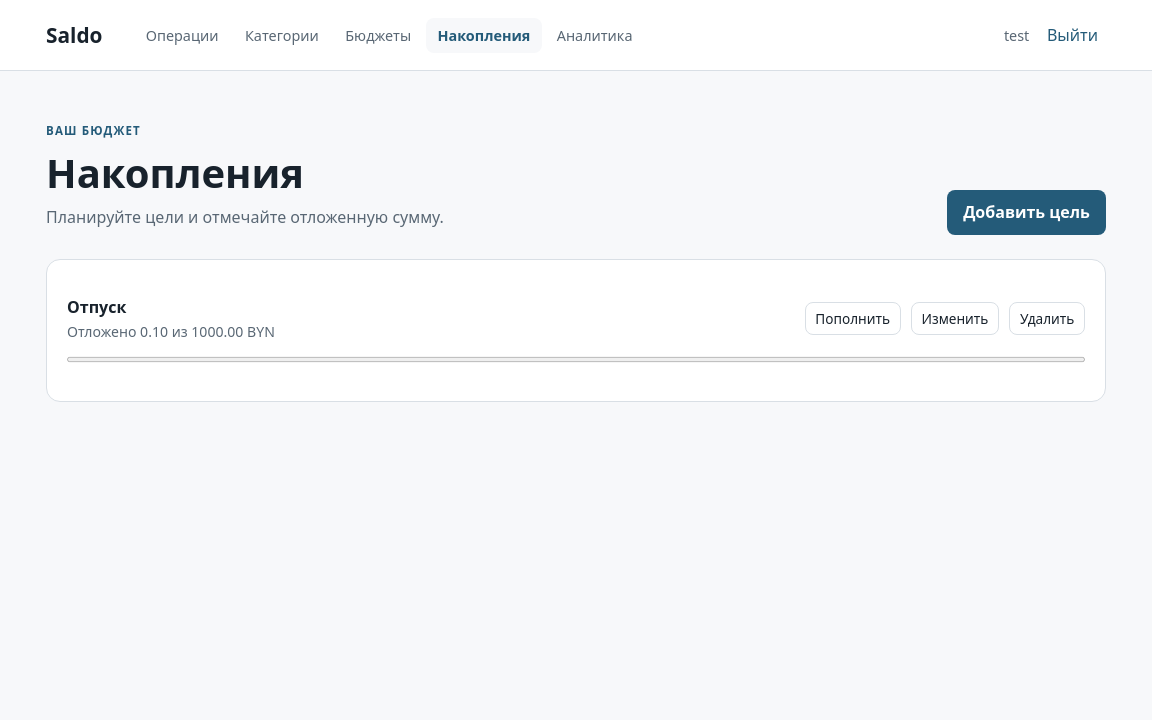
adding savings › fetches the latest amount before adding and sends the exact total
Expected: the text "Отпуск" is shown, 67,296 -> 126,318
Click the button with aria-label "Пополнить цель Отпуск".
click(853, 318)  # box 805,302 -> 901,335
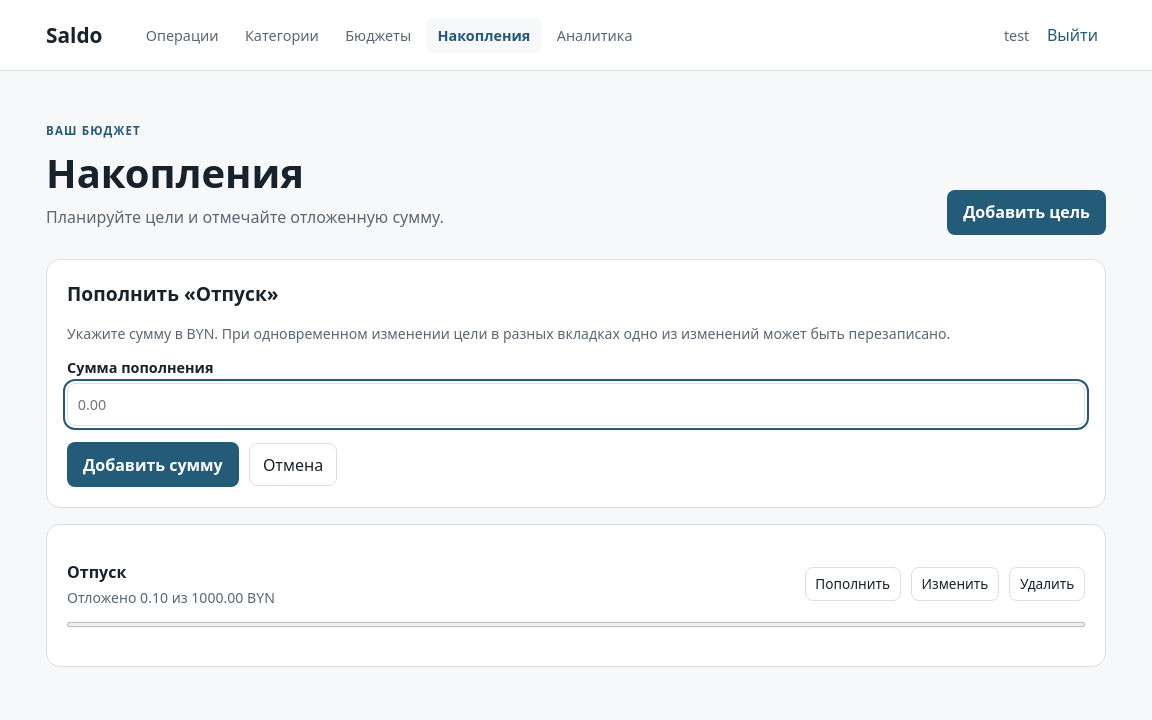
Type "0,10" into the field labelled "Сумма пополнения".
click(576, 405); type("0,10")  # box 67,383 -> 1085,426
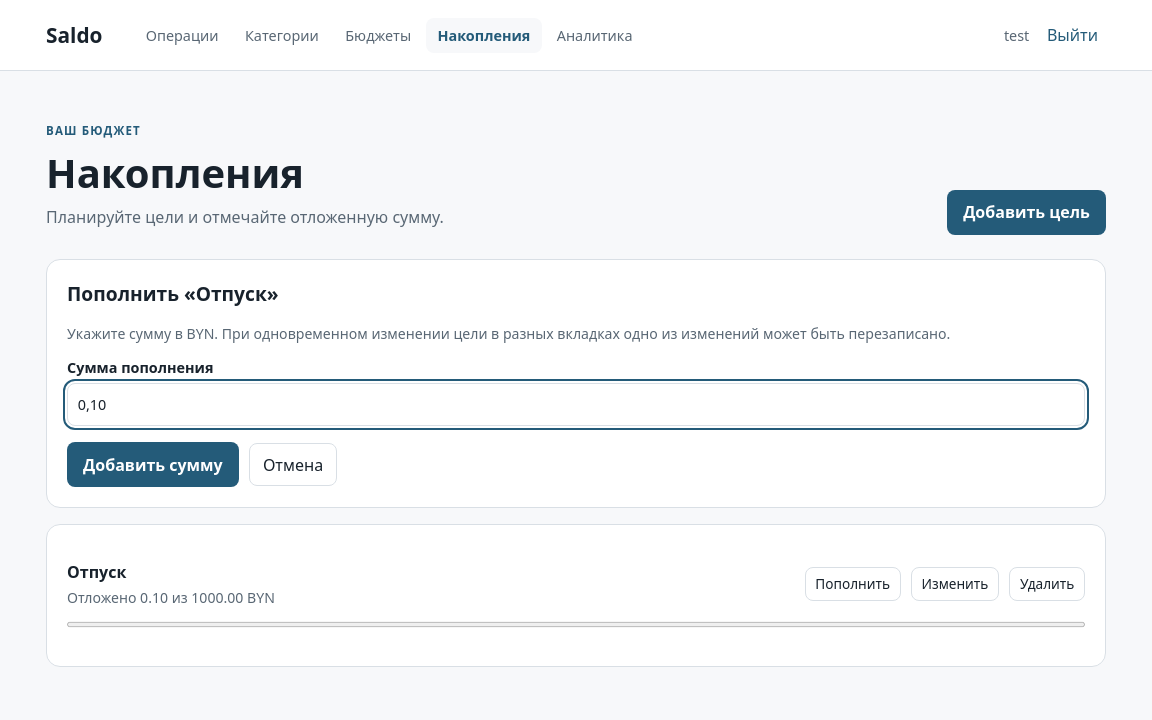
Click the button "Добавить сумму".
click(153, 465)  # box 67,442 -> 239,487
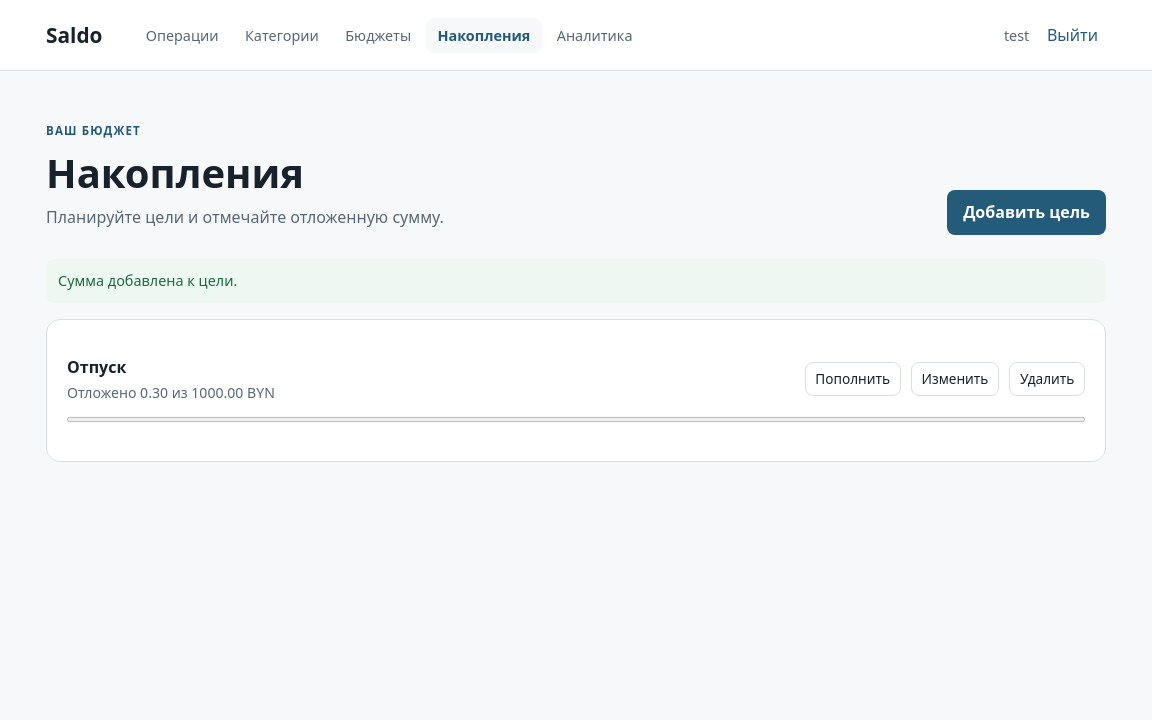
Result: the text "Отложено 0.30 из 1000.00 BYN" is shown at 67,383 -> 275,402
